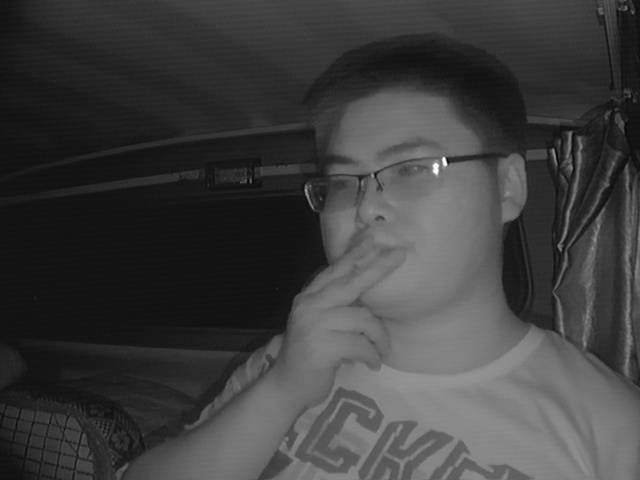hand: (287, 229, 414, 397)
